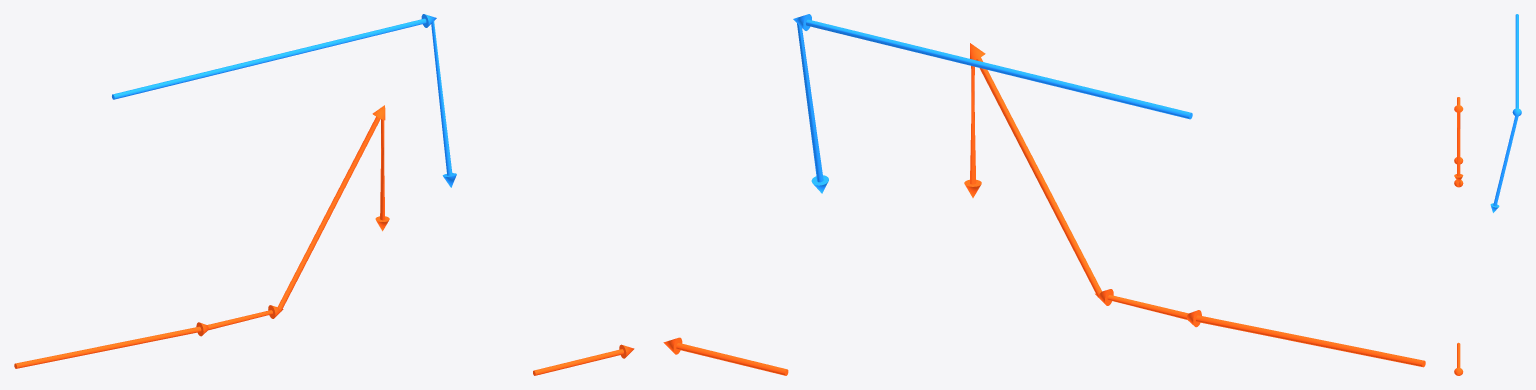
Rendered from causticization_tank_flow.glb.
The picture shows the model from 3 angles, left to right: view 1: azimuth 30°, elevation 25°; view 2: azimuth 150°, elevation 25°; view 3: azimuth 270°, elevation 25°; orthographic projection. The views are drawn at different scales.
Parts seen in each view (by area): view 1: lime_milk, liquor, product; view 2: lime_milk, liquor, product; view 3: liquor, lime_milk, product.
Part boxes in pixels (<box>): lime_milk: <box>14,105,389,368</box>; liquor: <box>112,14,456,187</box>; product: <box>533,344,634,375</box>; lime_milk: <box>964,43,1425,367</box>; liquor: <box>793,14,1192,193</box>; product: <box>663,337,788,375</box>; liquor: <box>1490,14,1521,212</box>; lime_milk: <box>1454,97,1463,187</box>; product: <box>1454,342,1463,375</box>.
Bounding box in the file's own units: 3.88 × 2.08 × 0.578.
